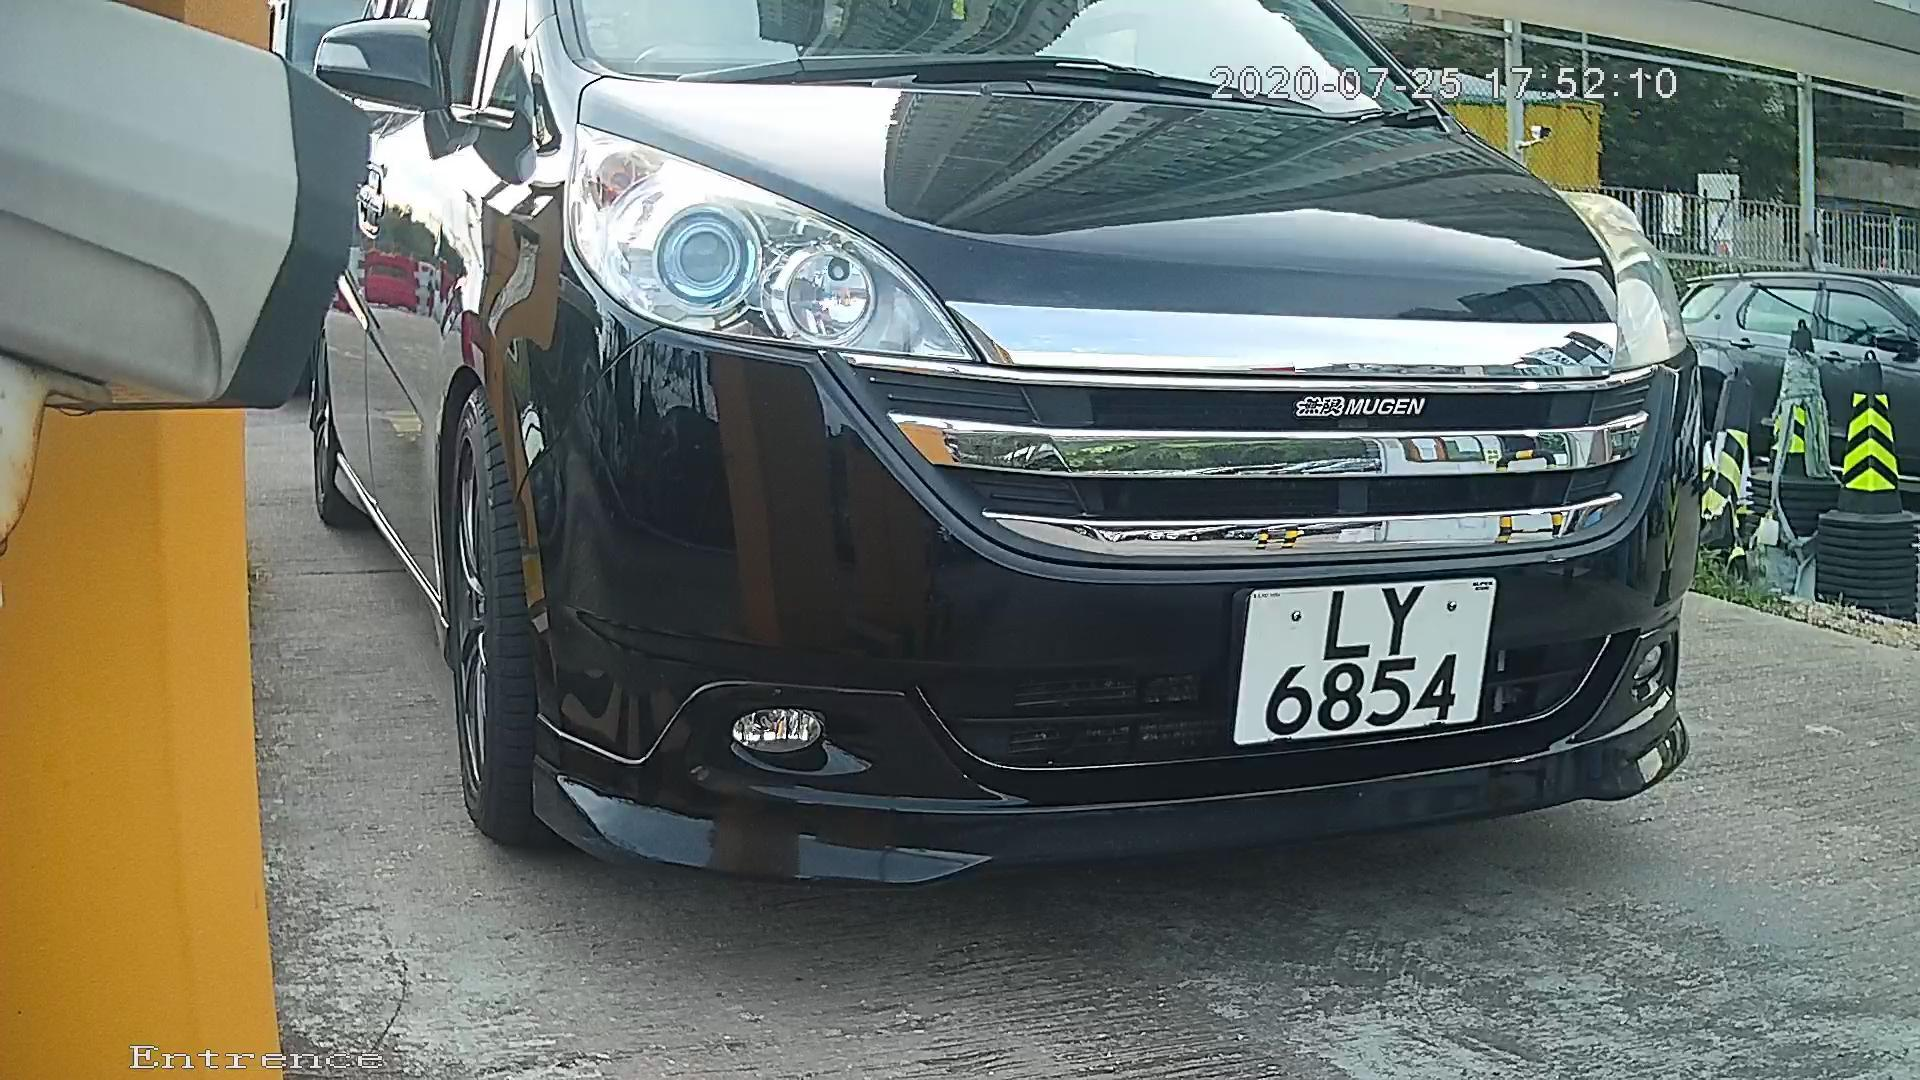privatecar: (241, 29, 1844, 945)
